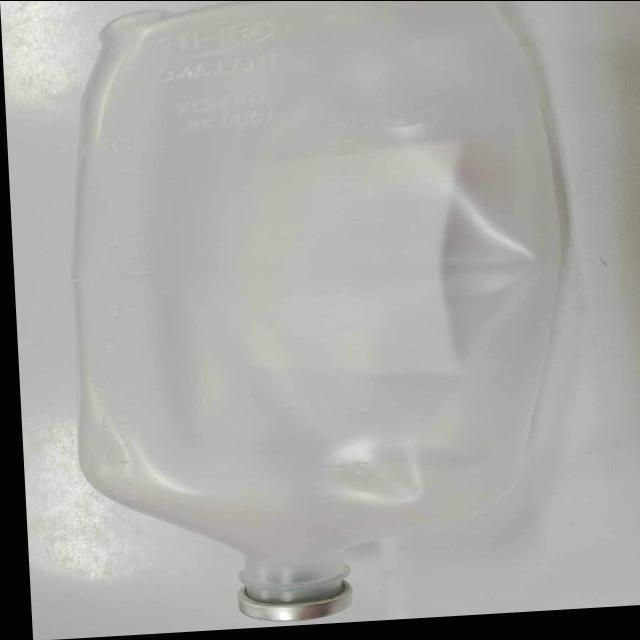General: (69, 1, 566, 616)
